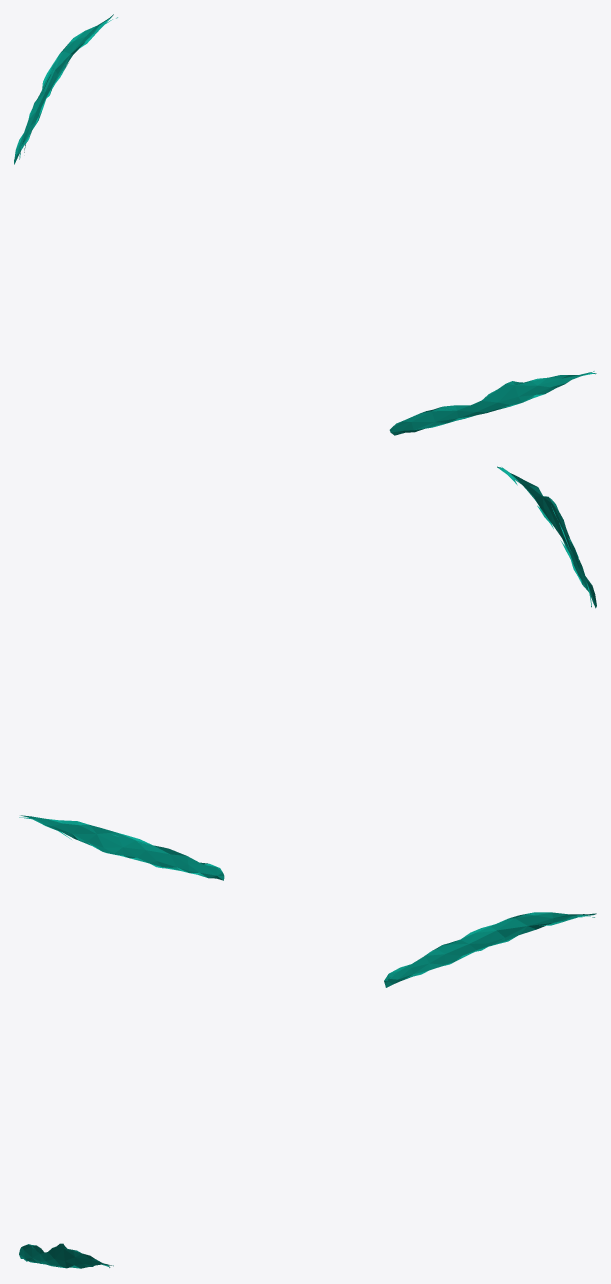
The picture shows the model from 3 angles, top to bottom: view 1: azimuth 30°, elevation 25°; view 2: azimuth 150°, elevation 25°; view 3: azimuth 330°, elevation 25°; orthographic projection.
Parts seen in each view (by area): view 1: 662.obj; view 2: 662.obj; view 3: 662.obj.
Boxes of the visible parts, <box> form: 662.obj: <box>14,14,596,435</box>; 662.obj: <box>19,466,596,880</box>; 662.obj: <box>19,912,596,1268</box>.
Bounding box in the file's own units: 1409 × 609 × 7434.
